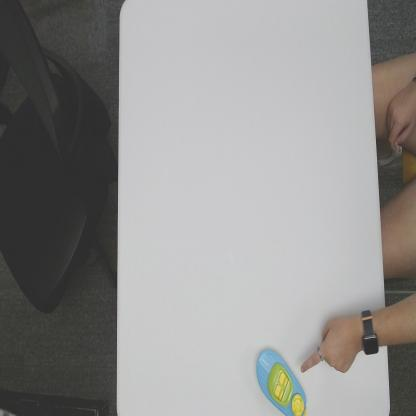Boat: (255, 346, 308, 415)
Hand: (300, 310, 356, 375)
